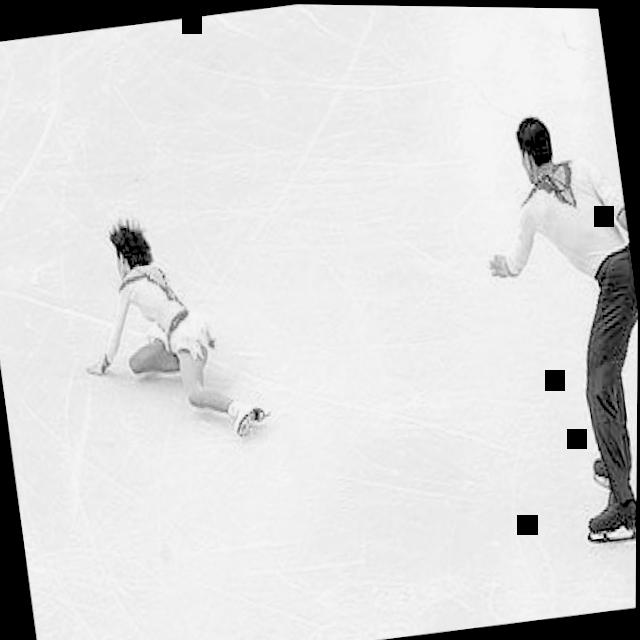Fall-Detected: (55, 180, 286, 467)
